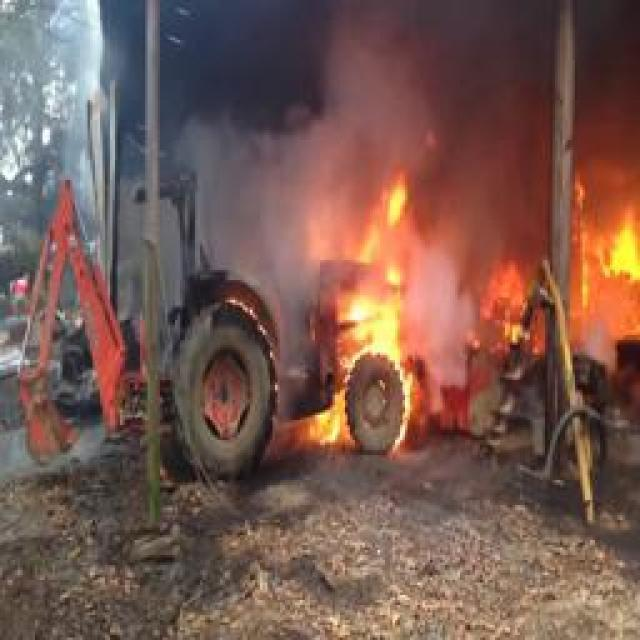Fire: (570, 1, 637, 341), (329, 240, 449, 382), (481, 262, 526, 349), (383, 172, 407, 228)
Smoke: (123, 0, 640, 135), (198, 132, 322, 286)
